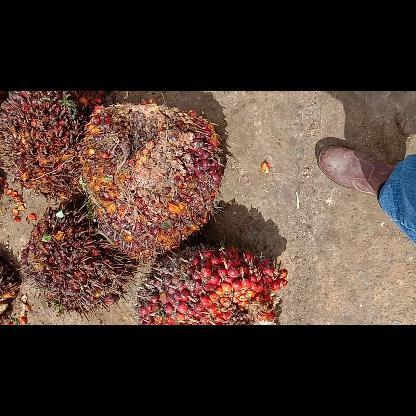TBS masak: (78, 99, 224, 261), (135, 244, 287, 324), (20, 204, 132, 312), (0, 91, 87, 198)
